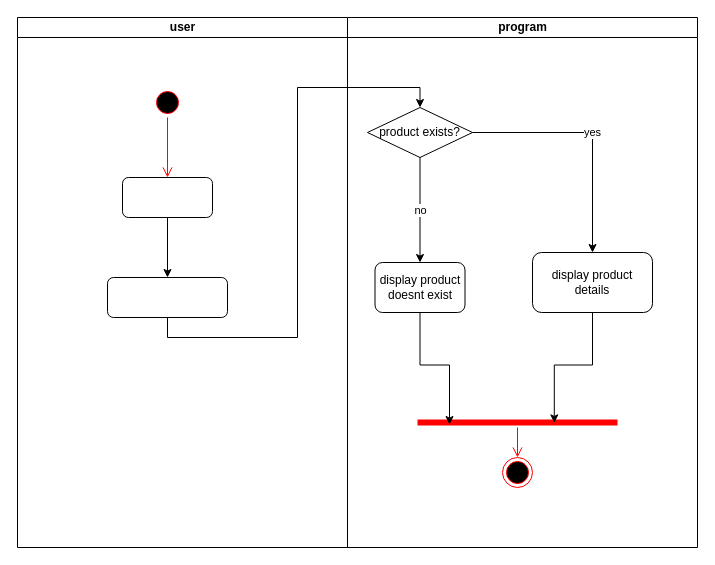
This 715x565 diagram has some shape labels left out. The centre of each missing label's shape, as x and y in pixels:
enters in search bar product name or keyword: the point at 167,297
user navigates to the website: the point at 167,197
